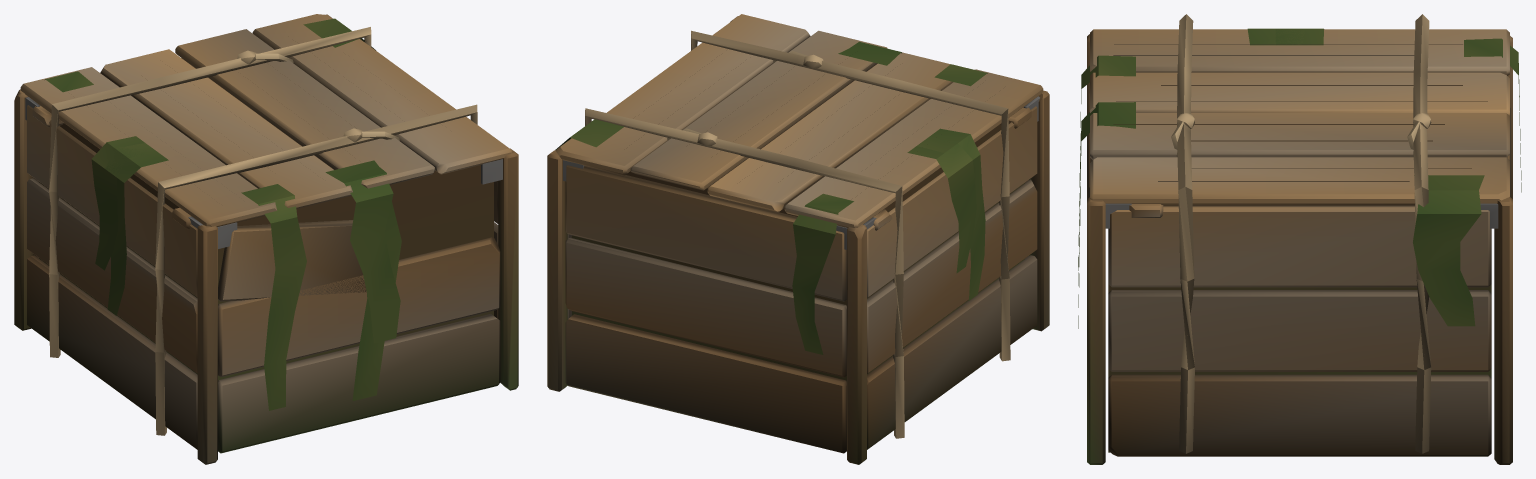
Rendered from building-driftCrate.glb.
3 views of the same model, side by side, from view 1: azimuth 30°, elevation 25°; view 2: azimuth 150°, elevation 25°; view 3: azimuth 270°, elevation 25° (orthographic). The views are drawn at different scales.
Visible parts, largest first — view 1: 0_driftCrate; view 2: 0_driftCrate; view 3: 0_driftCrate.
Boxes of the visible parts, x1,y1,x2,y2 form: 0_driftCrate: (14,14,518,464); 0_driftCrate: (547,14,1049,464); 0_driftCrate: (1078,14,1521,464).
Bounding box in the file's own units: 0.79 × 0.5918 × 0.828.
